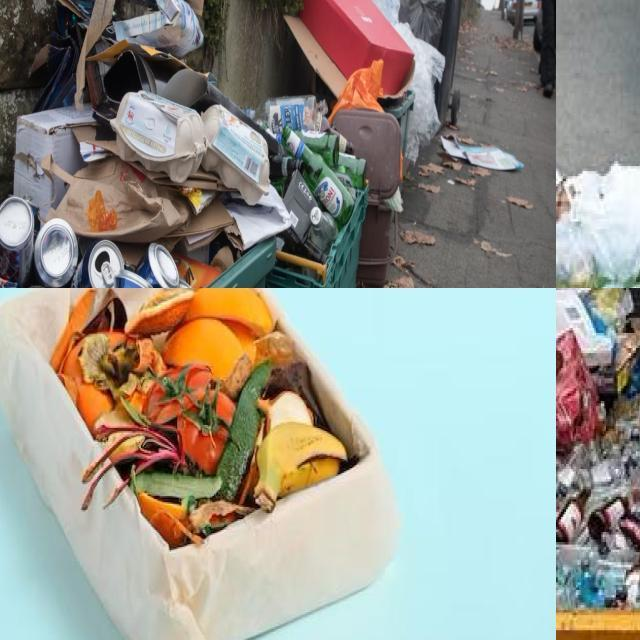Garbage: (0, 0, 365, 288), (9, 288, 374, 552), (556, 288, 640, 612)
Glass_bottle: (556, 399, 640, 608), (281, 125, 354, 227), (248, 95, 316, 136), (296, 129, 339, 169), (310, 207, 338, 255), (332, 152, 366, 190), (270, 154, 304, 181)
Plastic_wraper: (86, 190, 117, 232)
can: (34, 217, 78, 288), (0, 196, 34, 284), (71, 240, 124, 288), (136, 242, 180, 288)
